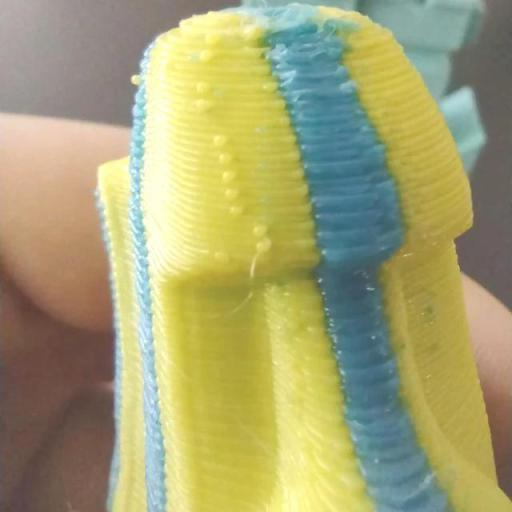blobs: (211, 164, 245, 185), (222, 199, 249, 220), (202, 28, 226, 49), (334, 81, 358, 101), (218, 184, 244, 202), (254, 232, 276, 253), (207, 132, 233, 149), (193, 80, 217, 98), (249, 220, 273, 238), (214, 151, 238, 167), (125, 72, 149, 88), (334, 62, 356, 78), (263, 78, 283, 95), (198, 49, 216, 65)
